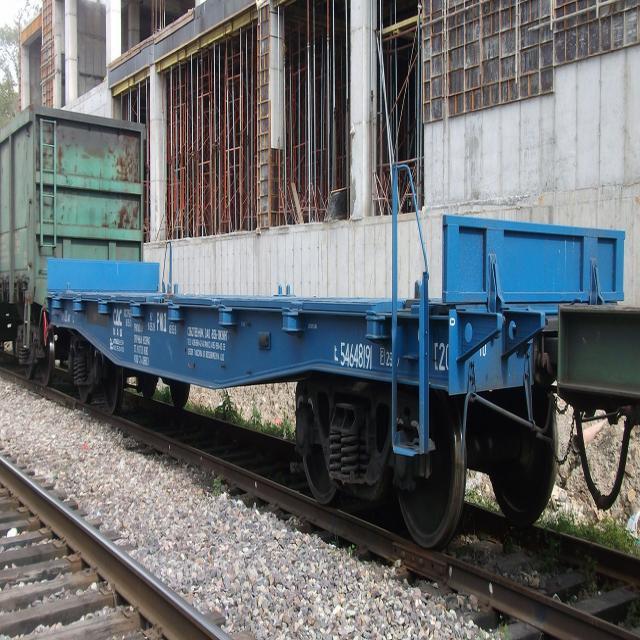flatcar: (38, 292, 545, 540)
gondola: (0, 102, 152, 382)
